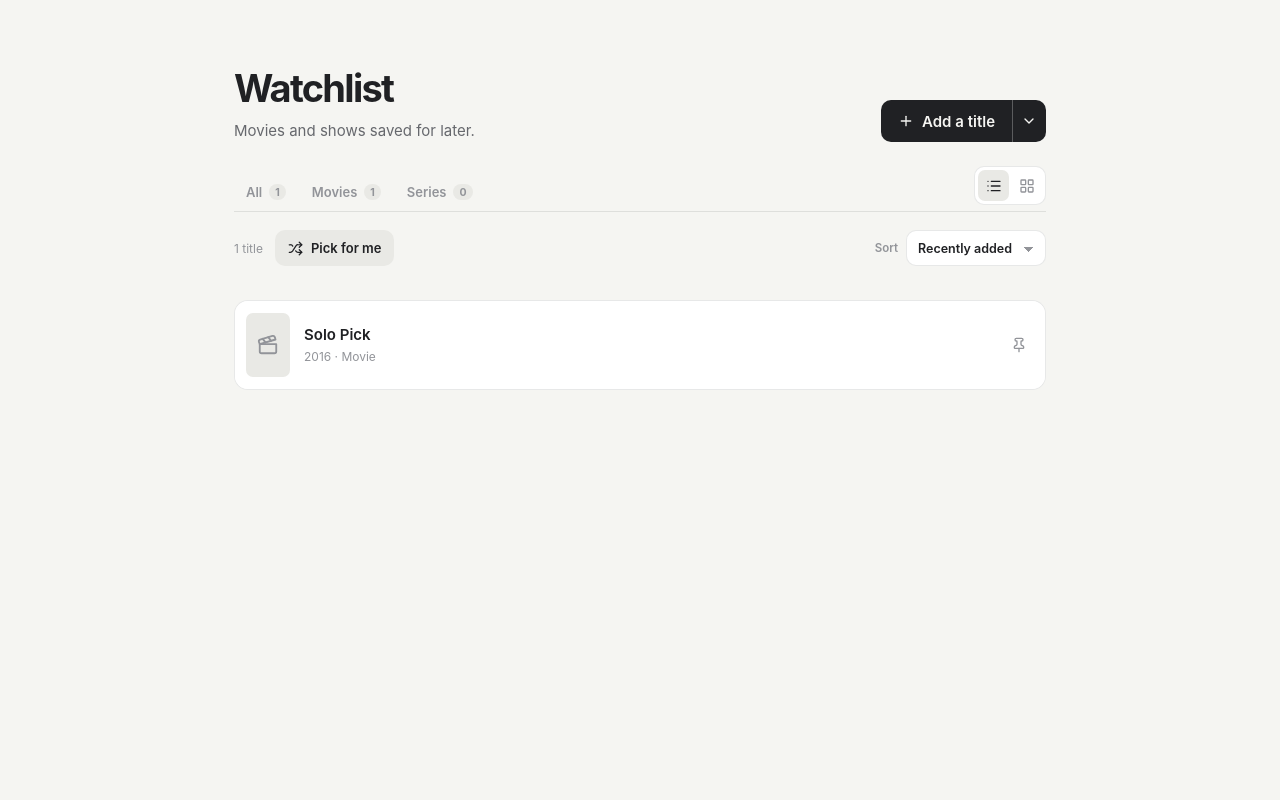
Test case: LibraryView watchlist mode › opens the pick card with Math.random stubbed, and View details opens the sheet in place
Check: the button with aria-label "View Solo Pick" is shown, box [235,301,1045,389]
Click the button "Pick for me".
click(335, 248)  # box [275,230,394,266]
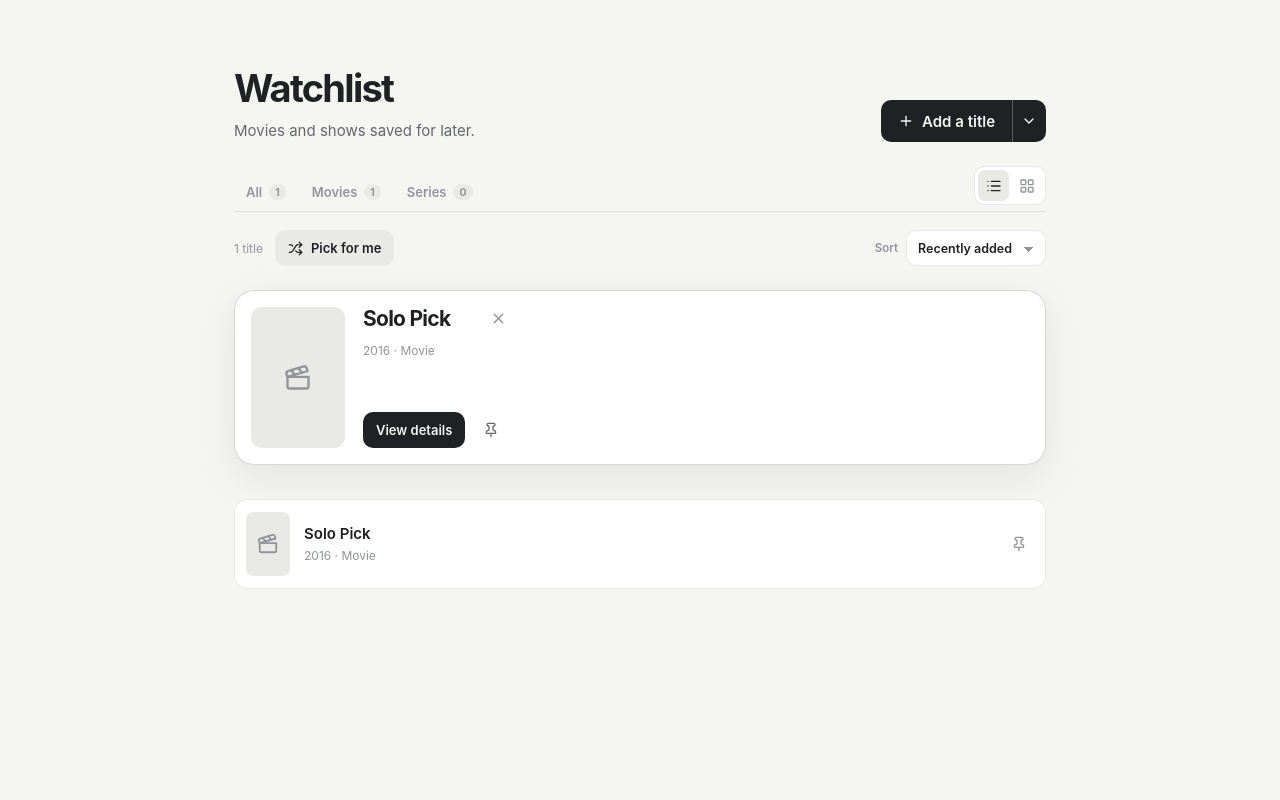
Check: the heading "Solo Pick" is shown, box [363,307,450,331]
Click the button "View details".
click(414, 430)  # box [363,412,465,448]
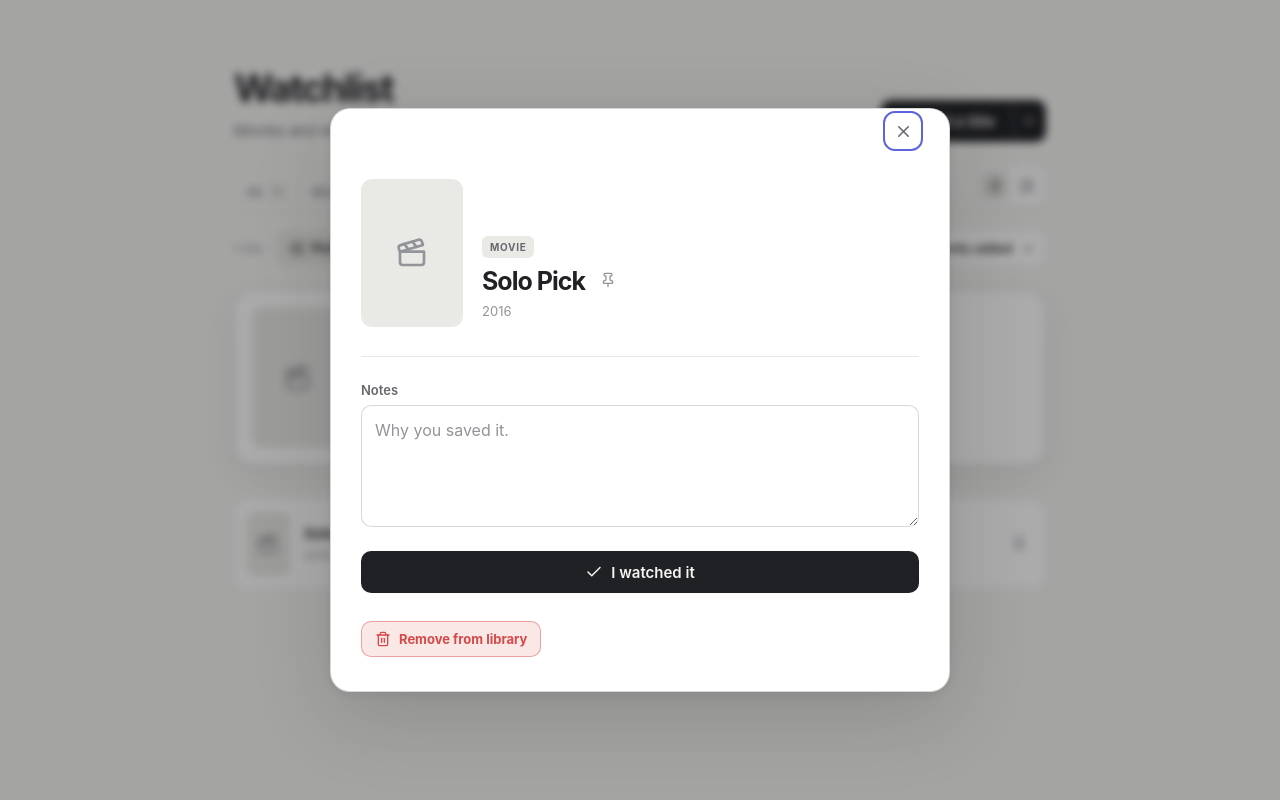
Check: the button with aria-label "View Solo Pick" shows "Solo Pick", box [235,500,1045,588]
Check: the element named "Your pick" is shown, box [234,290,1046,465]
Check: the dialog "Solo Pick" is shown, box [330,108,950,692]
